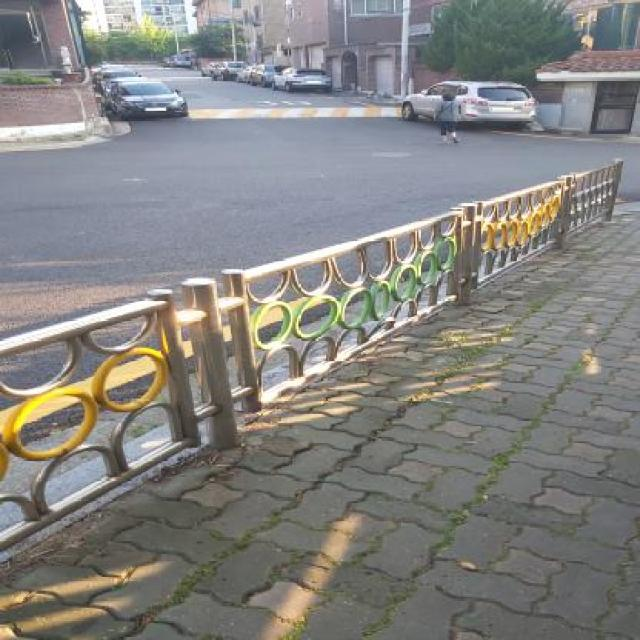fence: (0, 139, 602, 544)
